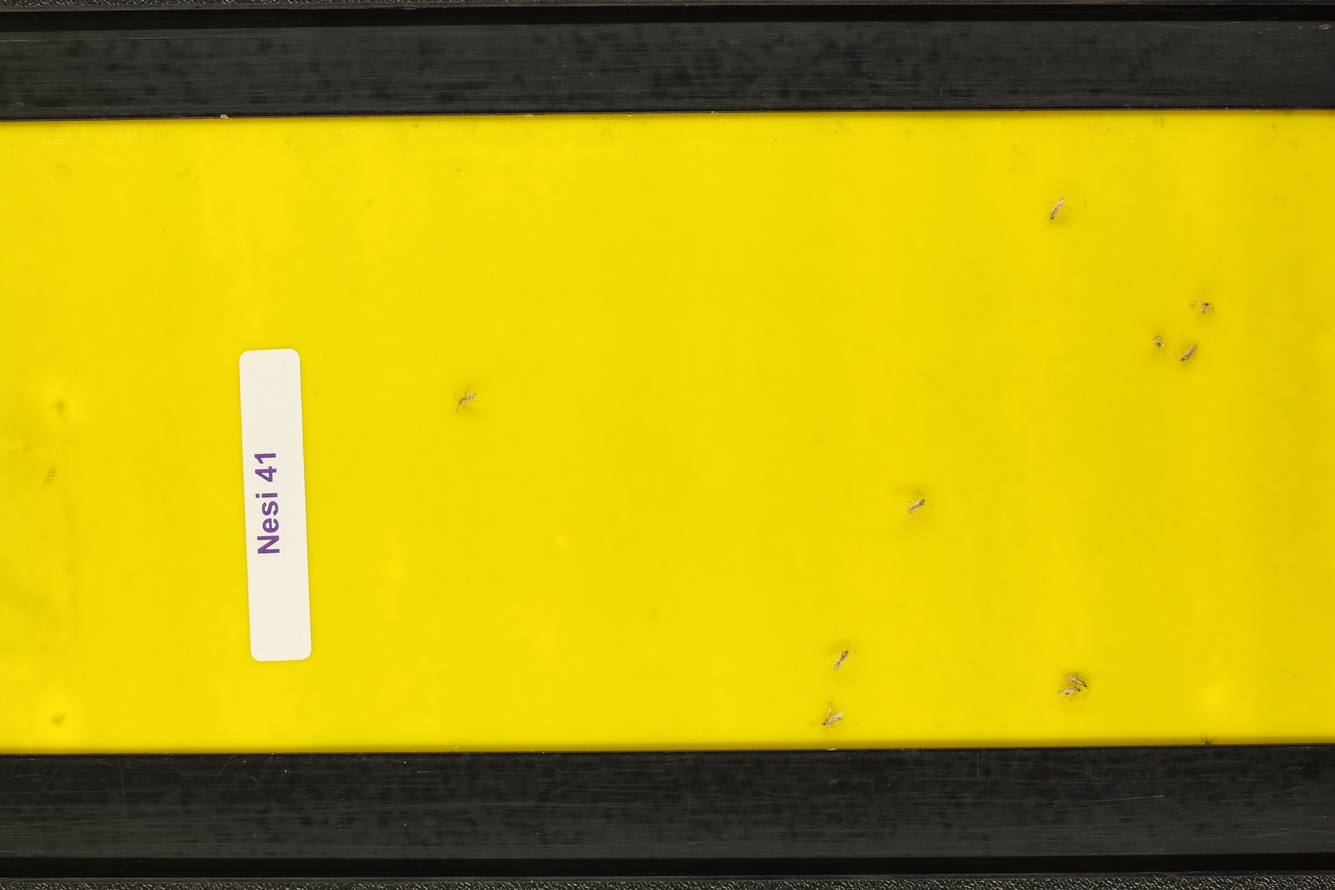NC: (1043, 196, 1073, 233), (900, 490, 935, 520), (820, 702, 849, 736), (828, 639, 855, 673), (453, 386, 484, 414), (1051, 686, 1086, 710), (1177, 338, 1199, 368), (1188, 299, 1221, 319), (1067, 668, 1095, 691), (1149, 330, 1172, 353)
